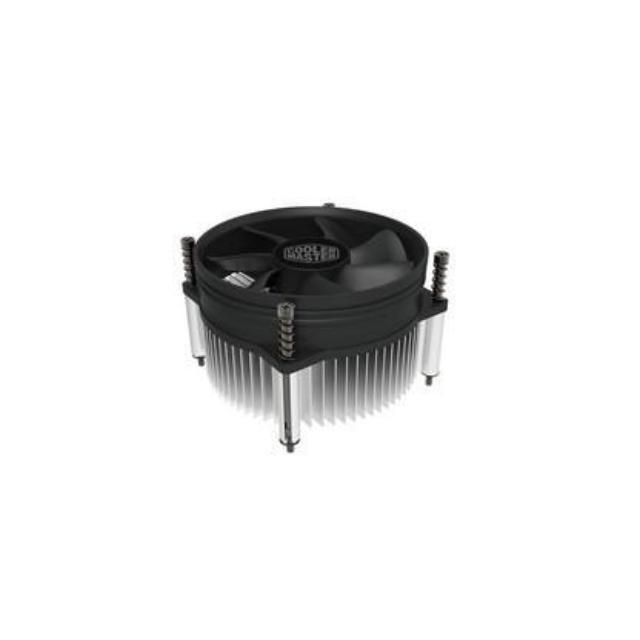CPU_Fan: (168, 191, 450, 451)
